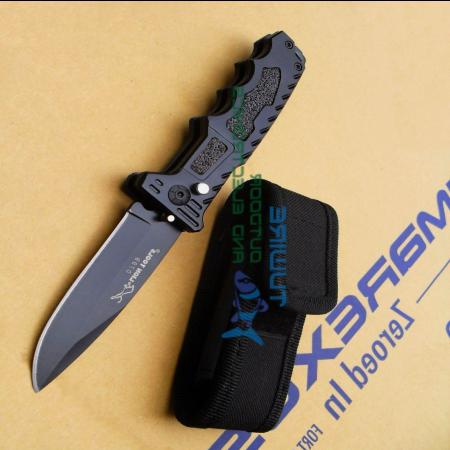long weapon: (25, 200, 183, 398)
